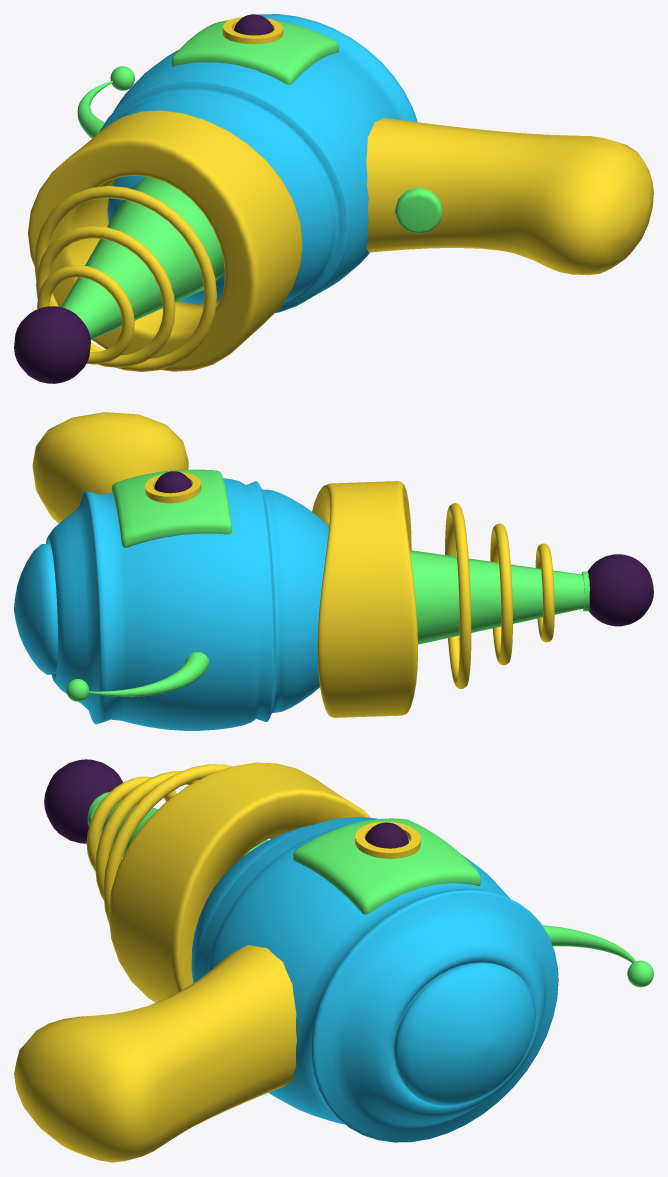
Rendered from ToyObject_014.fbx.
3 views of the same model, one above another, from view 1: azimuth 30°, elevation 25°; view 2: azimuth 150°, elevation 25°; view 3: azimuth 270°, elevation 25° (orthographic). The views are drawn at different scales.
Parts seen in each view (by area): view 1: 1.044; view 2: 1.044; view 3: 1.044.
Boxes of the visible parts, x1=… form: 1.044: x1=14, y1=14, x2=653, y2=383; 1.044: x1=14, y1=412, x2=653, y2=730; 1.044: x1=14, y1=759, x2=653, y2=1162.
Size of the model in its own units: 0.2527 by 0.0994 by 0.2002.
